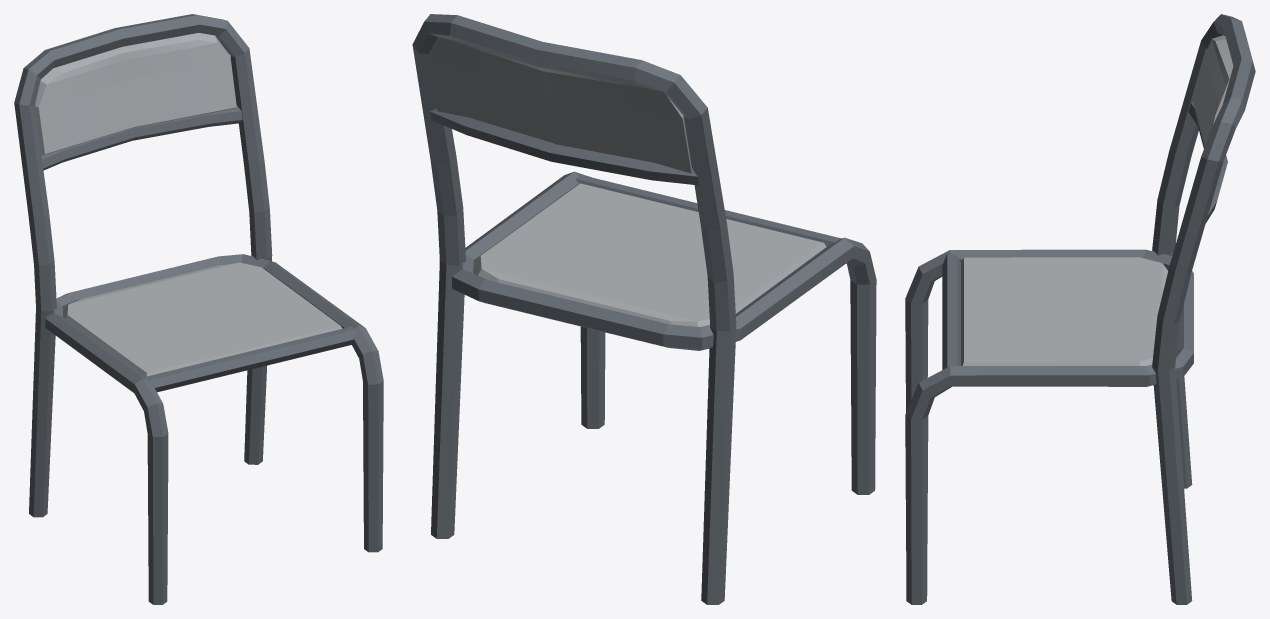
Rendered from Chair_06.FBX.
3 renders of one model, left to right at view 1: azimuth 30°, elevation 25°; view 2: azimuth 150°, elevation 25°; view 3: azimuth 270°, elevation 25°, orthographic. The views are drawn at different scales.
Visible parts, largest first — view 1: Chair_06; view 2: Chair_06; view 3: Chair_06.
Part boxes in pixels (<box>): Chair_06: <box>14,14,383,604</box>; Chair_06: <box>412,14,876,604</box>; Chair_06: <box>905,14,1255,604</box>.
Size of the model in its own units: 53.44 by 97.16 by 63.46.
